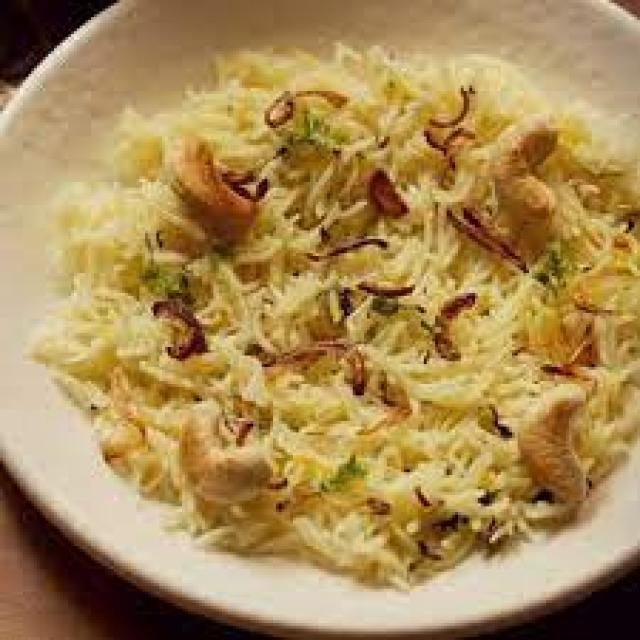Wet Waste: (51, 30, 640, 587)
